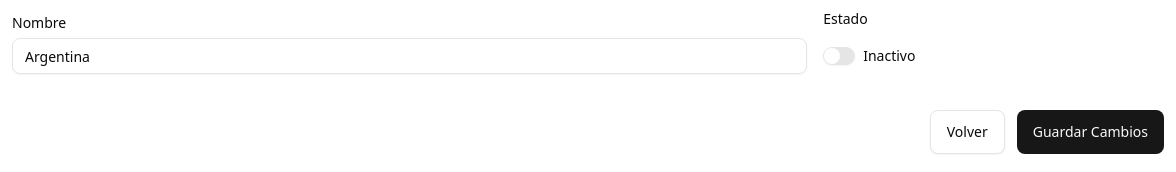
Test: CountryForm › preserves edit false and updates status text through both toggle transitions
Check: the element showing "Inactivo" is shown, box x1=823 y1=46 x2=915 y2=65
Click the switch named "Estado" at (839, 56), box x1=823 y1=47 x2=855 y2=65
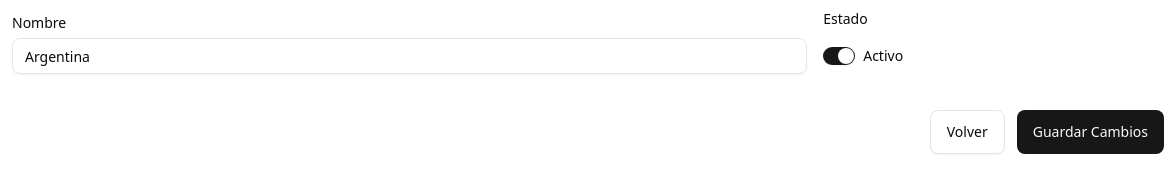
Check: the element showing "Activo" is shown, box x1=823 y1=46 x2=903 y2=65
Click the switch named "Estado" at (839, 56), box x1=823 y1=47 x2=855 y2=65
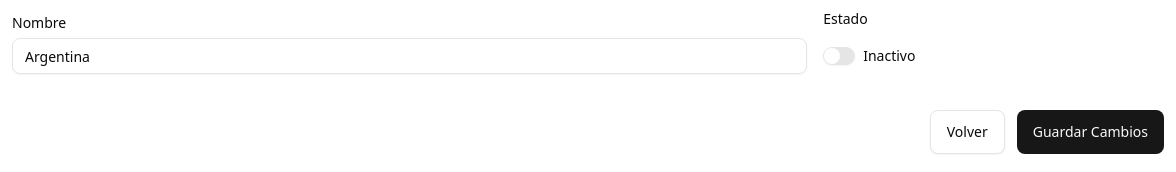
Check: the element showing "Inactivo" is shown, box x1=823 y1=46 x2=915 y2=65
